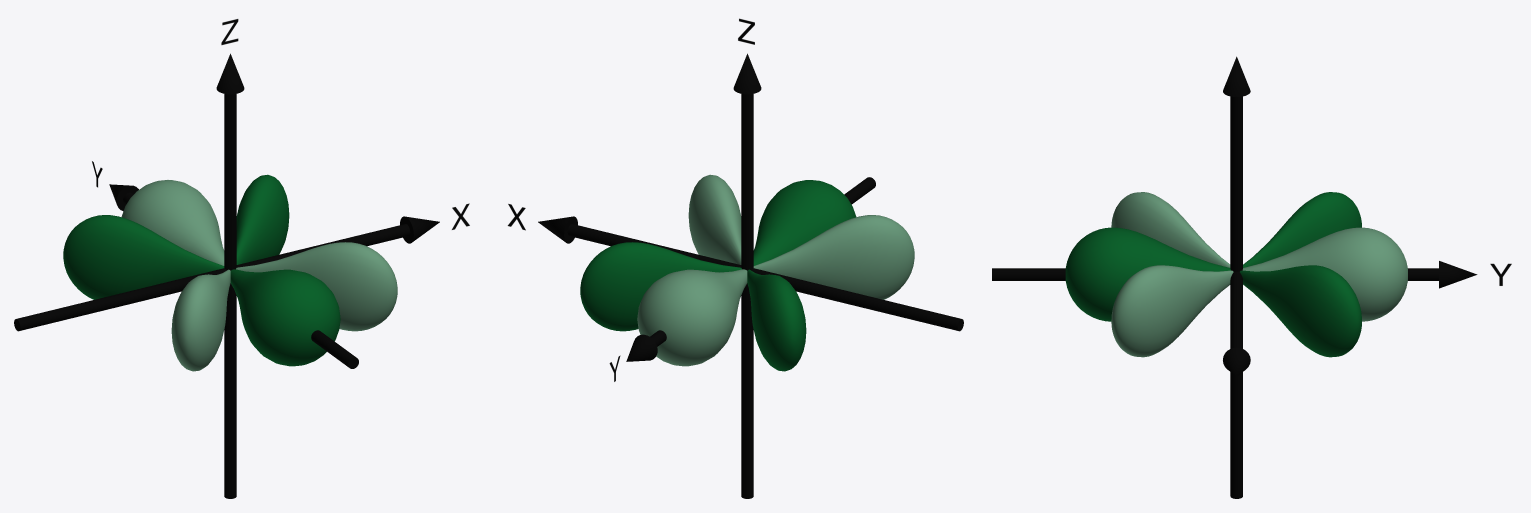
The picture shows the model from 3 angles, left to right: view 1: azimuth 30°, elevation 25°; view 2: azimuth 150°, elevation 25°; view 3: azimuth 270°, elevation 25°; orthographic projection.
Visible parts, largest first — view 1: newF2Orbital; view 2: newF2Orbital; view 3: newF2Orbital.
Part boxes in pixels (x1,y1,x2,y2): newF2Orbital: [14, 53, 439, 498]; newF2Orbital: [538, 53, 963, 498]; newF2Orbital: [992, 56, 1477, 498].
Bounding box in the file's own units: 93.5 × 93.5 × 93.5.
Materials: 2 (2 with a texture image).
